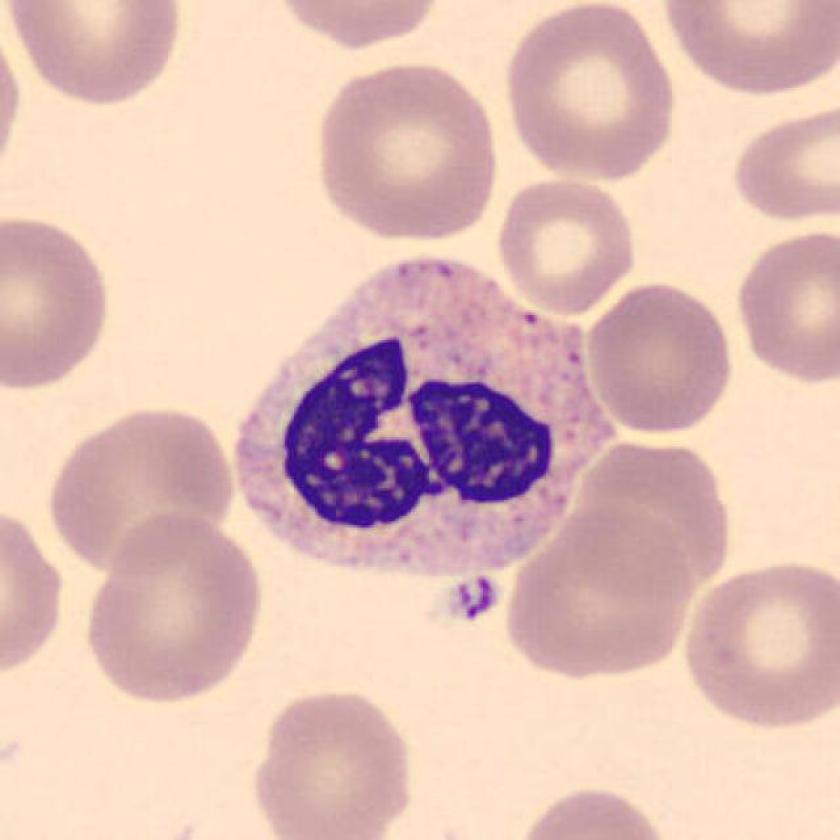neutrophil: (236, 260, 609, 580)
